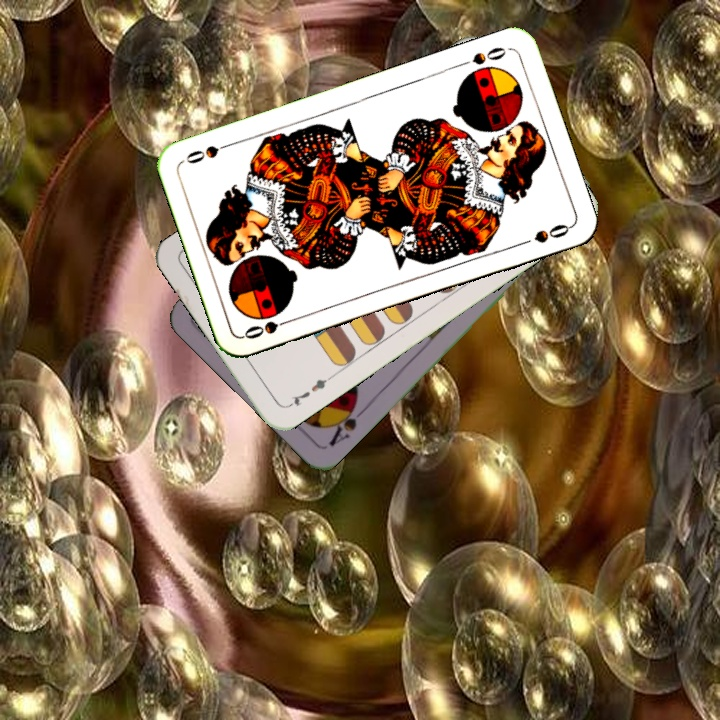E7: (283, 371, 335, 411)
SA: (323, 395, 370, 449)
SO: (240, 310, 297, 342), (454, 43, 509, 70)
